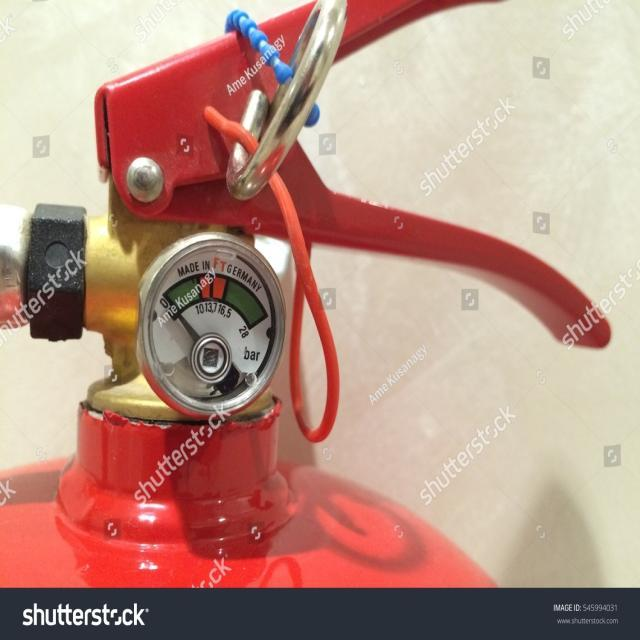pressure gauge: (139, 232, 284, 417)
